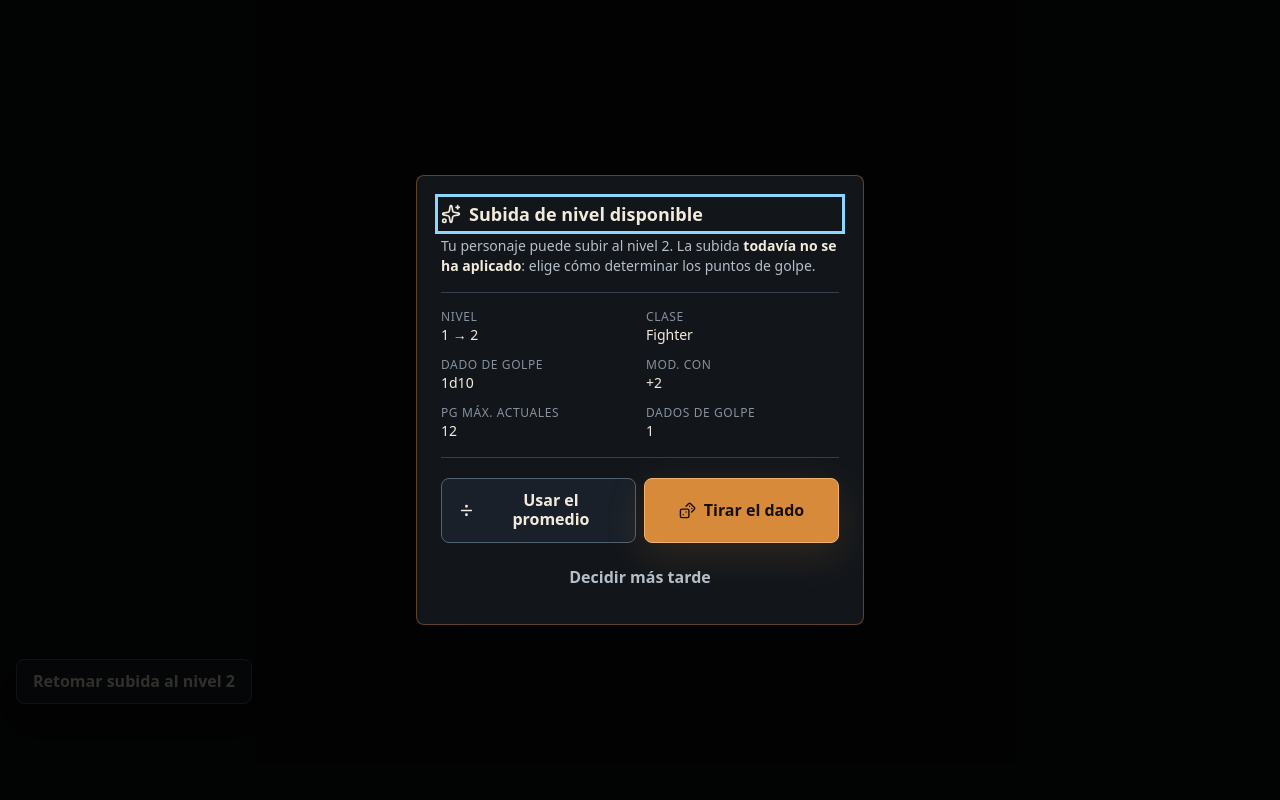
Test case: F. LevelUpConfirmation — recoverable failures keep the panel › F2. 400 keeps the dialog open without resynchronising
This screenshot has width=1280, height=800.
Click the button "Tirar el dado": (742, 510) top-left (644, 478), bottom-right (839, 543)
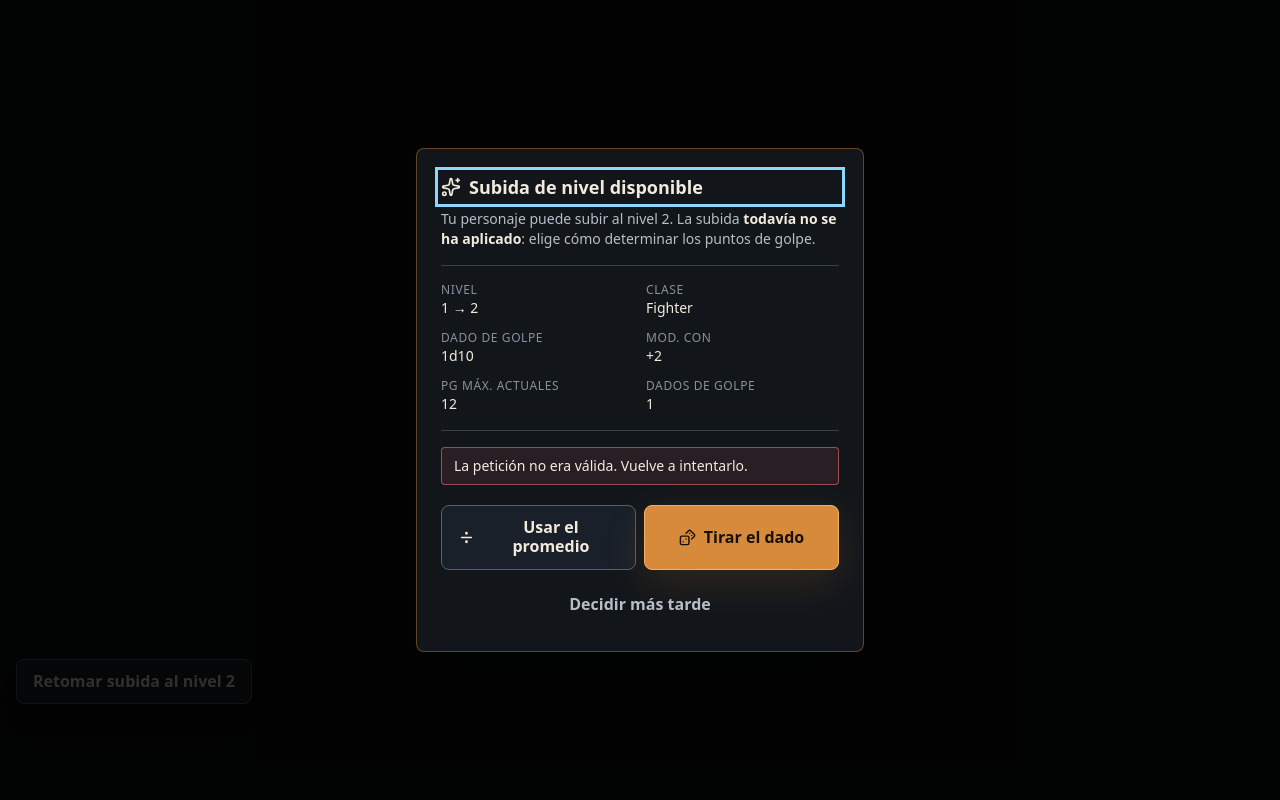
Check: the message "La petición no era válida. Vuelve a intentarlo." is shown, box top-left (441, 447), bottom-right (839, 485)
